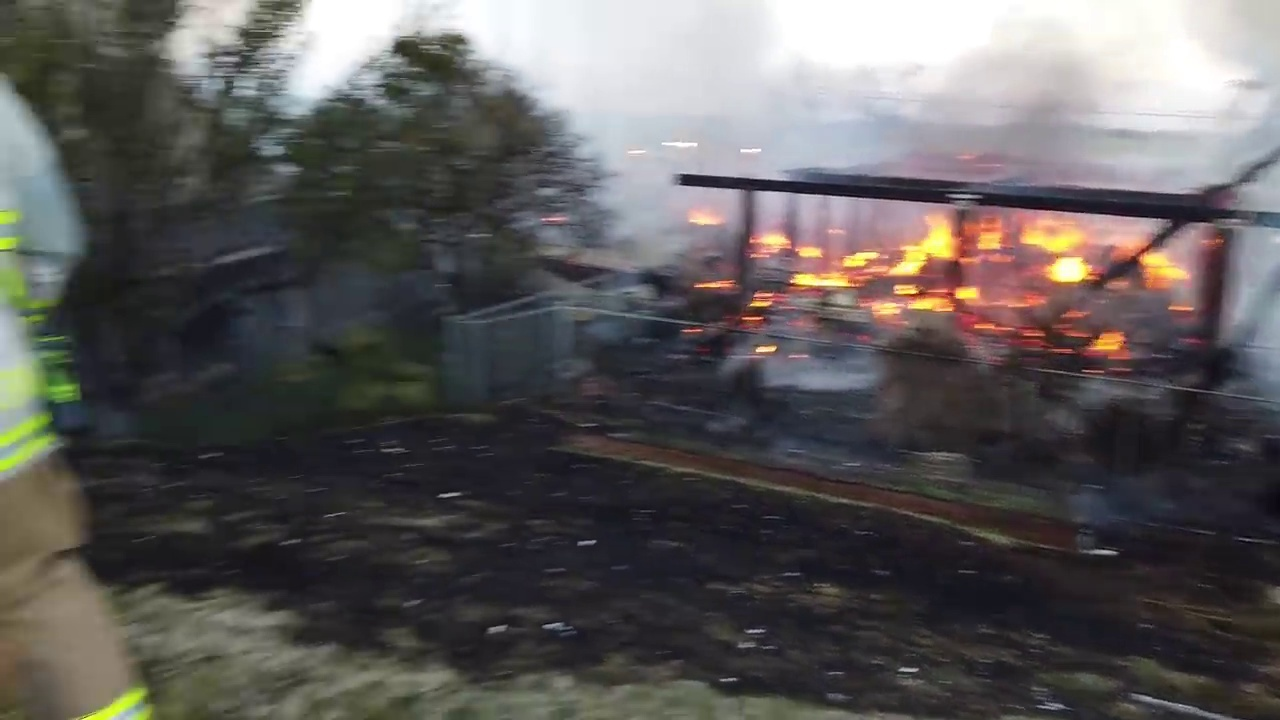fire: (750, 203, 1193, 313), (974, 321, 1147, 385), (677, 271, 786, 371), (73, 692, 150, 718)
smoke: (520, 1, 1275, 189), (1223, 229, 1280, 392), (586, 190, 691, 270), (771, 359, 889, 393)
